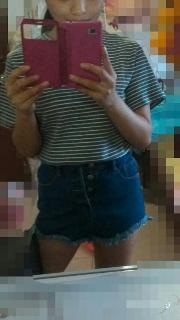short sleeve top: (0, 30, 166, 165)
skirt: (35, 148, 153, 246)
